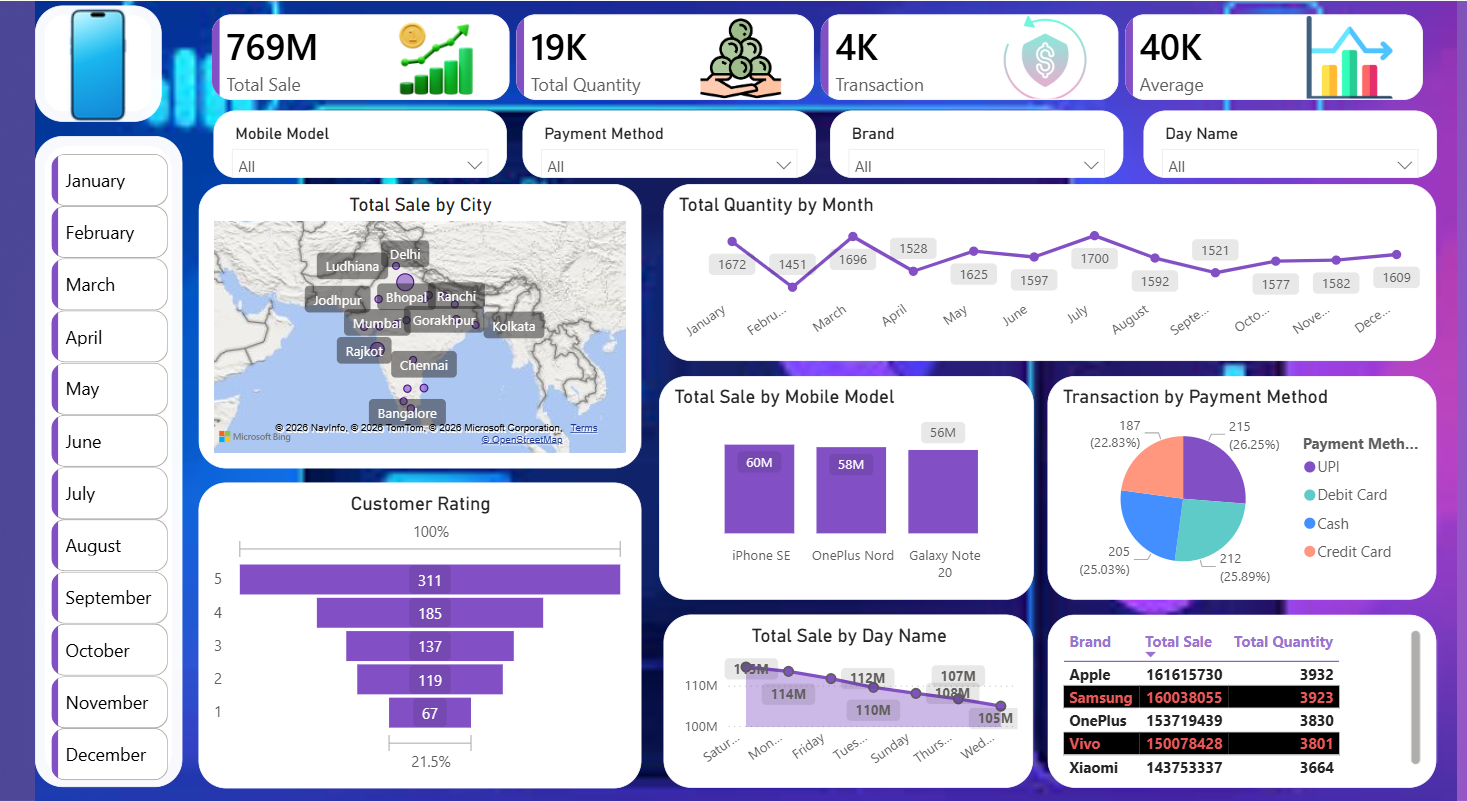

This screenshot's page, from the dashboard's own definition file:
{"tool":"powerbi","page":{"name":"Page 1","canvas":[1280,720],"ordinal":0},"visuals":[{"type":"shape","box":[0,4.7,114.1,104.7],"z":0},{"type":"image","box":[0,4.7,114.1,104.7],"z":1000},{"type":"shape","box":[0,121.9,132.9,586.1],"z":2000},{"type":"advancedSlicerVisual","fields":{"Values":["Sheet1.Date.Variation.Date Hierarchy.Month"]},"box":[9.4,132.9,115.7,575.2],"z":3000},{"type":"cardVisual","fields":{"Data":["Sheet1.Total Sale","Sheet1.Total Quantity","Sheet1.Transaction","Sheet1.Average"]},"box":[146.9,0,1114.4,101.6],"z":4000},{"type":"map","fields":{"Category":["Sheet1.City"],"Size":["Sheet1.Total Sale"]},"box":[146.9,164.1,398.6,256.3],"z":5000},{"type":"lineChart","fields":{"Category":["Sheet1.Date.Variation.Date Hierarchy.Month","Sheet1.Date.Variation.Date Hierarchy.Day"],"Y2":["Sheet1.Total Quantity"]},"box":[565.8,164.1,695.5,159.4],"z":6000},{"type":"columnChart","fields":{"Category":["Sheet1.Mobile Model"],"Y":["Sheet1.Total Sale"]},"box":[561.1,337.6,337.6,201.6],"z":7000},{"type":"pieChart","fields":{"Y":["Sheet1.Transaction"],"Category":["Sheet1.Payment Method"]},"box":[911.2,337.6,350.1,201.6],"z":8000},{"type":"funnel","title":"Customer Rating ","fields":{"Category":["Sheet1.Customer Ratings"],"Y":["CountNonNull(Sheet1.Customer Ratings)"]},"box":[146.9,432.9,398.6,275.1],"z":9000},{"type":"areaChart","fields":{"Category":["Sheet1.Day Name"],"Y":["Sheet1.Total Sale"]},"box":[565.8,551.7,332.9,156.3],"z":10000},{"type":"tableEx","fields":{"Values":["Sheet1.Brand","Sheet1.Total Sale","Sheet1.Total Quantity"]},"box":[911.2,551.7,350.1,156.3],"z":11000},{"type":"slicer","fields":{"Values":["Sheet1.Mobile Model"]},"box":[161,98.5,264.1,61],"z":12000},{"type":"slicer","fields":{"Values":["Sheet1.Payment Method"]},"box":[439.2,98.5,264.1,61],"z":13000},{"type":"slicer","fields":{"Values":["Sheet1.Brand"]},"box":[715.8,98.5,264.1,61],"z":14000},{"type":"slicer","fields":{"Values":["Sheet1.Day Name"]},"box":[997.2,98.5,264.1,61],"z":15000}]}

Visuals, with their boxes in screenshot pixels (x1, y1, x2, y2), scaled from the page's 1280x720 canvas onto the 1467x802 screenshot:
shape: x1=0, y1=5, x2=131, y2=122
image: x1=0, y1=5, x2=131, y2=122
shape: x1=0, y1=136, x2=152, y2=789
advancedSlicerVisual - Sheet1.Date.Variation.Date Hierarchy.Month: x1=11, y1=148, x2=143, y2=789
cardVisual - Sheet1.Total Sale x Sheet1.Total Quantity: x1=168, y1=0, x2=1446, y2=113
map - Sheet1.City x Sheet1.Total Sale: x1=168, y1=183, x2=625, y2=468
lineChart - Sheet1.Date.Variation.Date Hierarchy.Month x Sheet1.Date.Variation.Date Hierarchy.Day: x1=648, y1=183, x2=1446, y2=360
columnChart - Sheet1.Mobile Model x Sheet1.Total Sale: x1=643, y1=376, x2=1030, y2=601
pieChart - Sheet1.Transaction x Sheet1.Payment Method: x1=1044, y1=376, x2=1446, y2=601
"Customer Rating " funnel: x1=168, y1=482, x2=625, y2=789
areaChart - Sheet1.Day Name x Sheet1.Total Sale: x1=648, y1=615, x2=1030, y2=789
tableEx - Sheet1.Brand x Sheet1.Total Sale: x1=1044, y1=615, x2=1446, y2=789
slicer - Sheet1.Mobile Model: x1=185, y1=110, x2=487, y2=178
slicer - Sheet1.Payment Method: x1=503, y1=110, x2=806, y2=178
slicer - Sheet1.Brand: x1=820, y1=110, x2=1123, y2=178
slicer - Sheet1.Day Name: x1=1143, y1=110, x2=1446, y2=178
